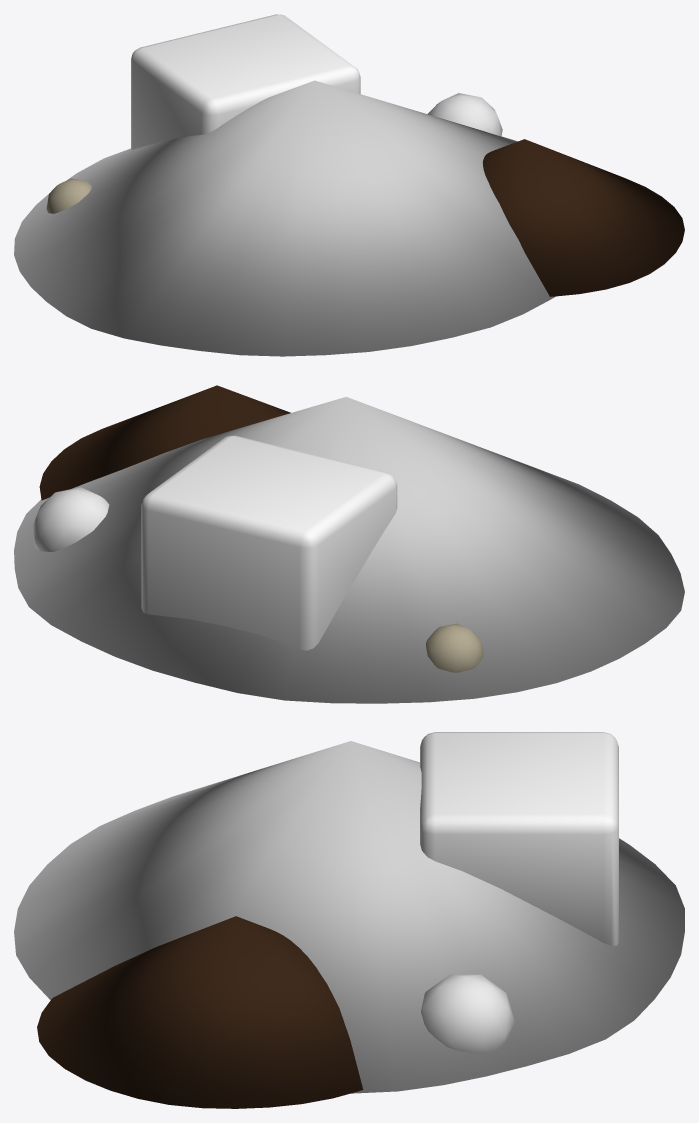
File: coyote-den.obj
The picture shows the model from 3 angles, top to bottom: view 1: azimuth 30°, elevation 25°; view 2: azimuth 150°, elevation 25°; view 3: azimuth 270°, elevation 25°; orthographic projection. The views are drawn at different scales.
Visible parts, largest first — view 1: coyote-den; view 2: coyote-den; view 3: coyote-den.
Boxes of the visible parts, left/top/right/bottom form: coyote-den: left=14, top=14, right=684, bottom=356; coyote-den: left=14, top=385, right=684, bottom=703; coyote-den: left=14, top=732, right=684, bottom=1108.
Size of the model in its own units: 2.09 by 0.6044 by 1.75.
